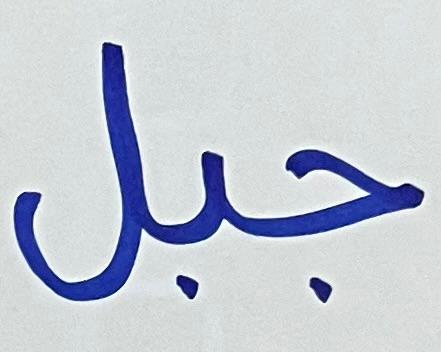beh: (160, 135, 237, 301)
jeem: (240, 140, 432, 303)
lam: (6, 31, 155, 305)
